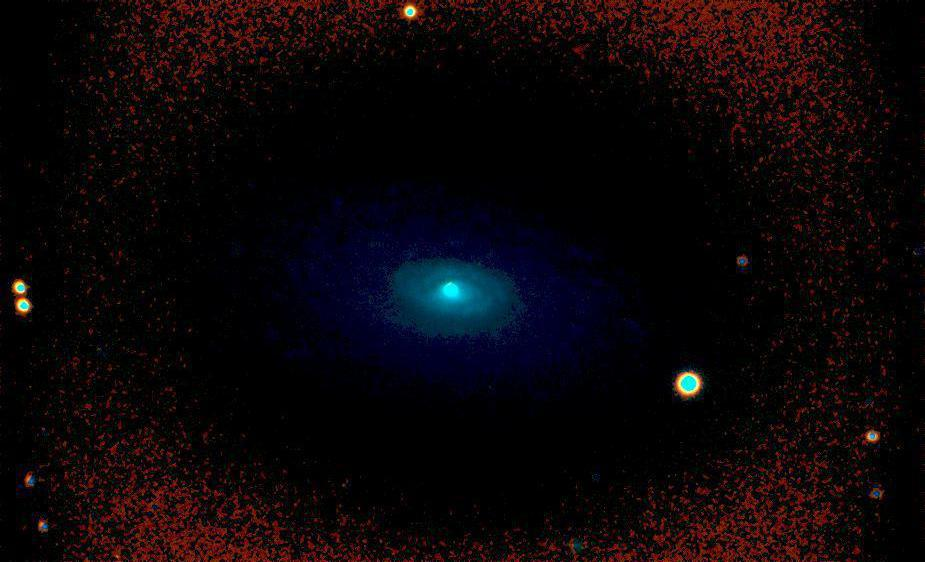star: (465, 248, 495, 278)
